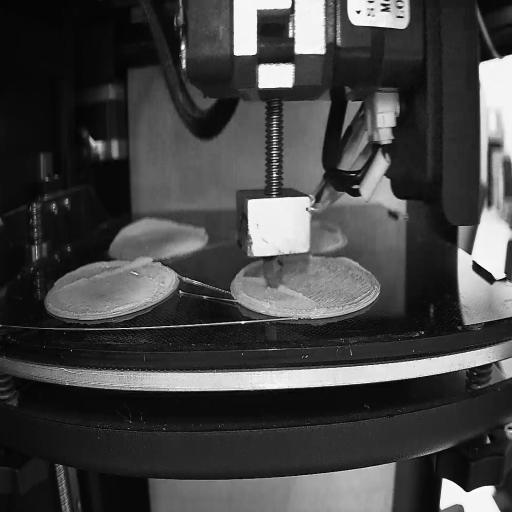over_extrusion: (58, 252, 154, 292), (111, 213, 202, 235), (280, 280, 309, 298), (243, 273, 267, 286), (335, 254, 359, 267)
